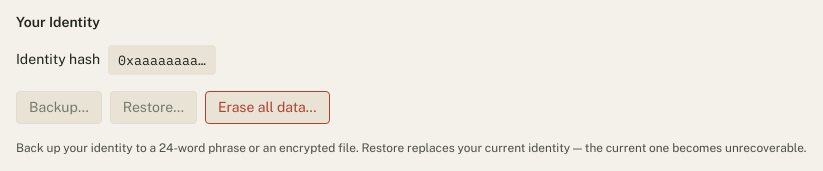
Test: Backup wizard — step 1 (type picker) › shows two options when Backup… is clicked
Expected: the button "0xaaaaaaaa…" is shown, [108, 45, 216, 75]
Click the button "Backup…" at (59,107), box [16, 91, 102, 124]
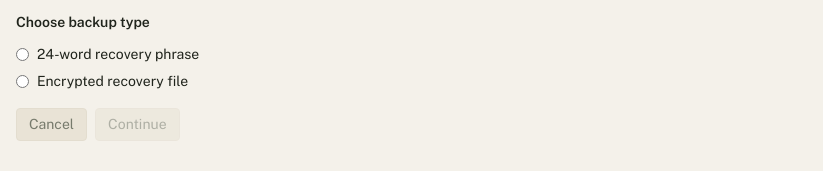
Expected: the radio button labelled "24-word recovery phrase" is shown, [16, 48, 29, 61]
Expected: the radio button labelled "Encrypted recovery file" is shown, [16, 76, 29, 88]
Expected: the button "Continue" is shown, [95, 108, 180, 141]
